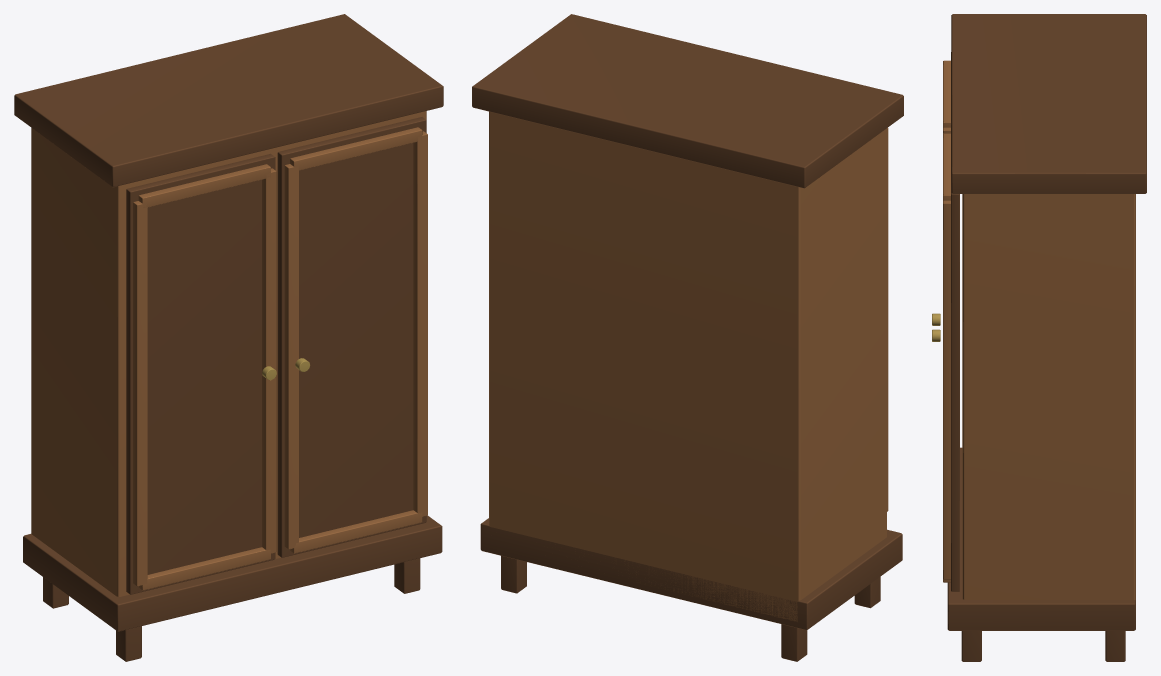
The model's file is S035_wardrobe_cabinet_rebuilt.glb.
3 views of the same model, side by side, from view 1: azimuth 30°, elevation 25°; view 2: azimuth 150°, elevation 25°; view 3: azimuth 270°, elevation 25° (orthographic).
Visible parts, largest first — view 1: Oak_end_and_edge, Oiled_warm_oak; view 2: Oiled_warm_oak, Oak_end_and_edge; view 3: Oiled_warm_oak, Oak_end_and_edge.
Part boxes in pixels (box(x1,y1,x2,y2)): Oak_end_and_edge: box(14, 14, 443, 661); Oiled_warm_oak: box(31, 111, 427, 596); Oiled_warm_oak: box(489, 111, 888, 621); Oak_end_and_edge: box(472, 14, 903, 661); Oiled_warm_oak: box(943, 60, 1135, 600); Oak_end_and_edge: box(947, 14, 1146, 661).
Bounding box in the file's own units: 1.5 × 2.18 × 0.8525.
